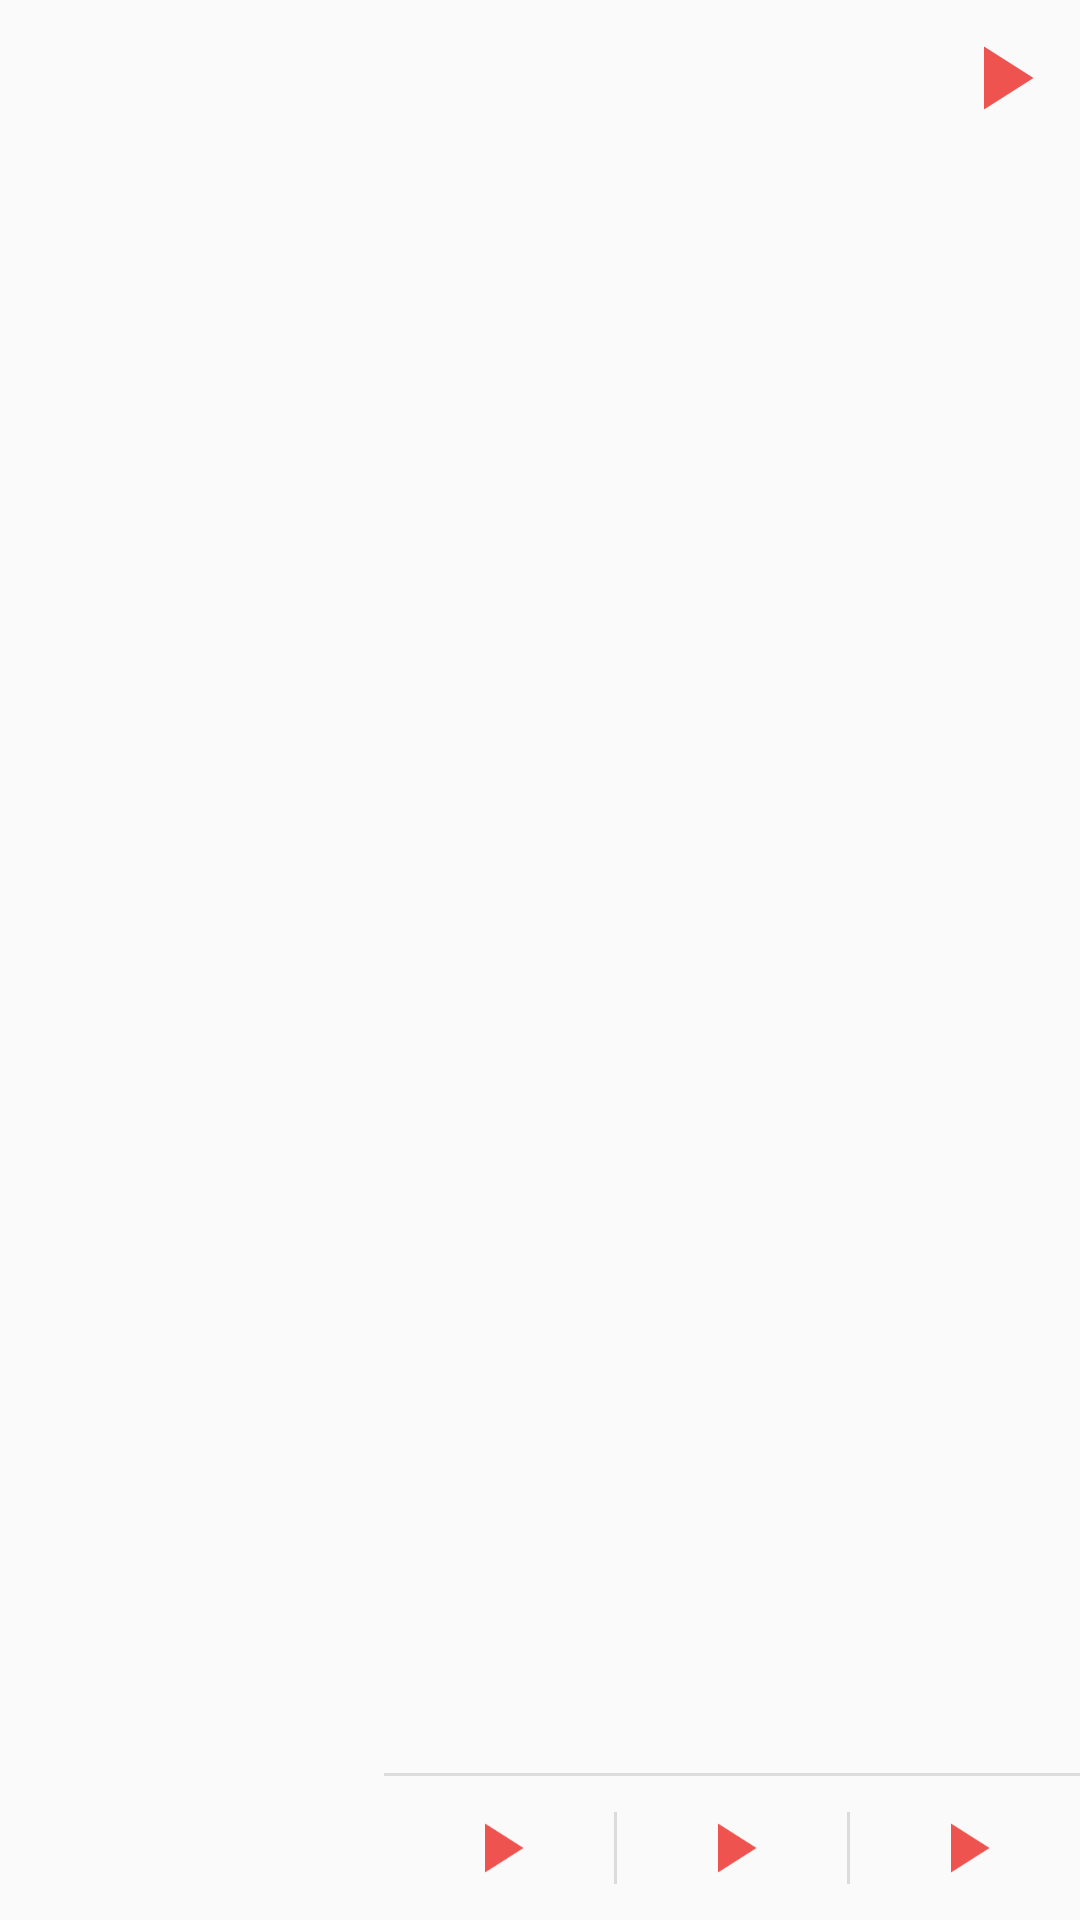

Screen size 1080 × 1920. Icon name, then its box in pixels as (x1, y1, x2, y2):
play: (984, 46, 1033, 110), (485, 1823, 523, 1873), (718, 1823, 756, 1873), (951, 1823, 989, 1873)
